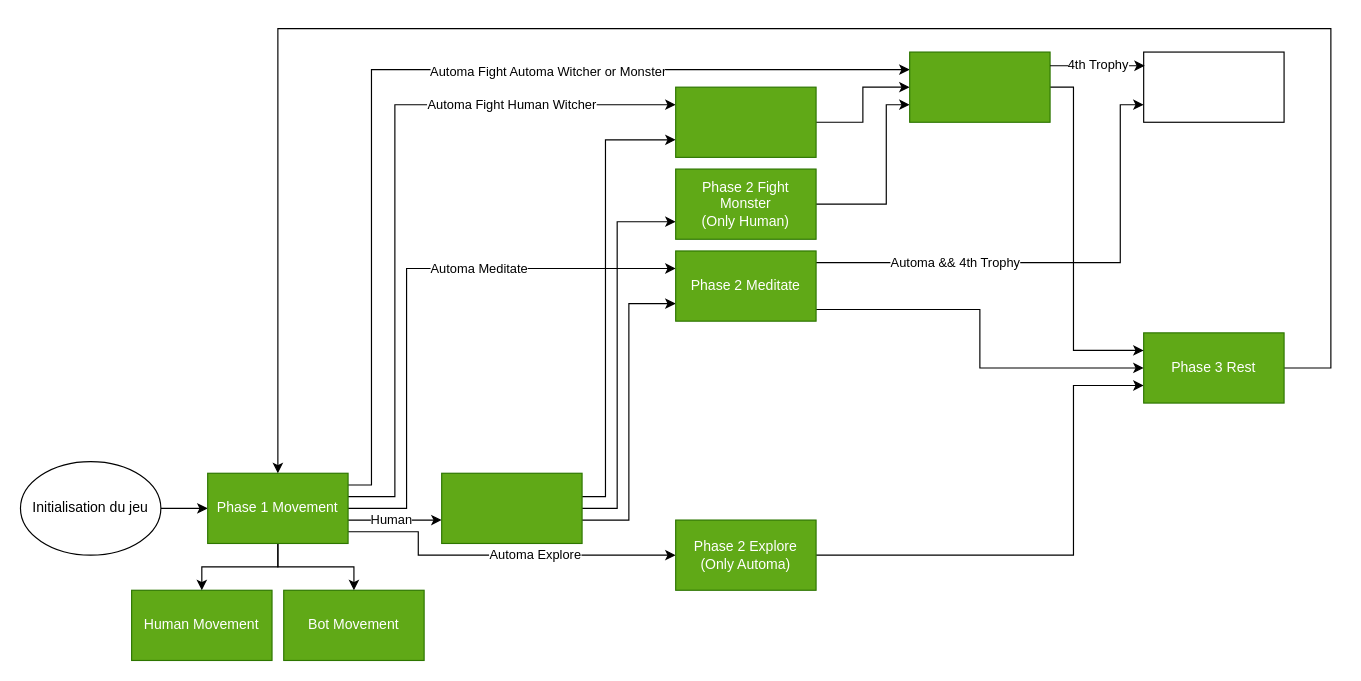
This 1361x681 diagram has some shape labels left out. The box of each missing label's shape, as (x1, y1, x2, y2) in pixels:
End of Game: (1143, 51, 1284, 122)
Phase 2 choice (Only Human): (441, 472, 582, 543)
Phase 2 Fight Result: (909, 51, 1050, 122)
Phase 2 Fight Witcher: (675, 86, 816, 157)
